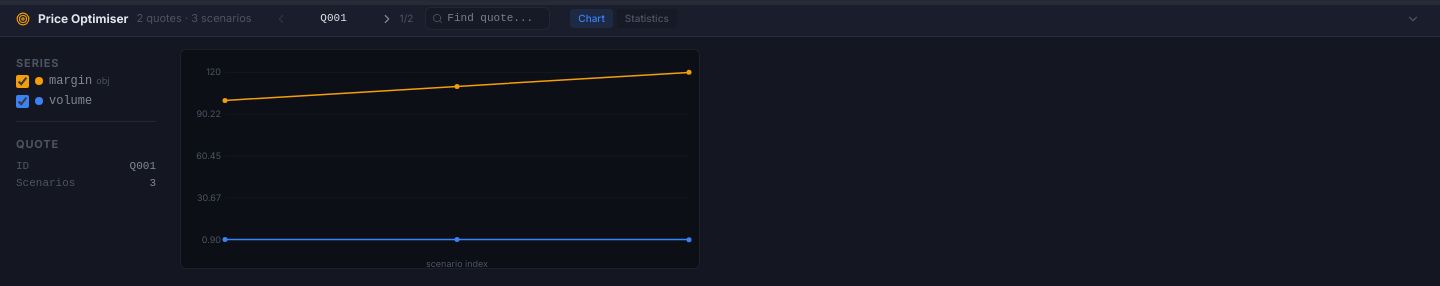
OptimiserDataPreview › Edge cases › shows empty message when all series unchecked
Note: Uncheck margin and volume (indices 0 and 1)
Click the 1st checkbox. click: (22, 81)
box: [16,74,29,88]
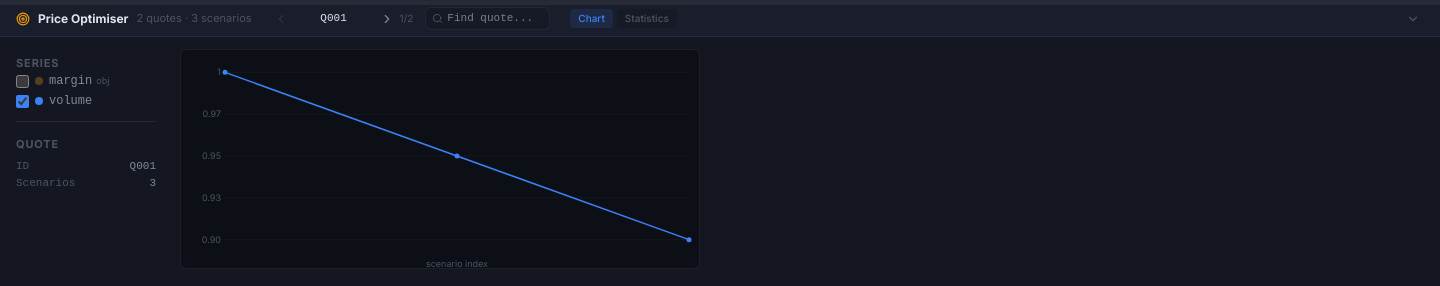
Click the checkbox labelled "volume". click: (22, 101)
box: [16,94,29,108]
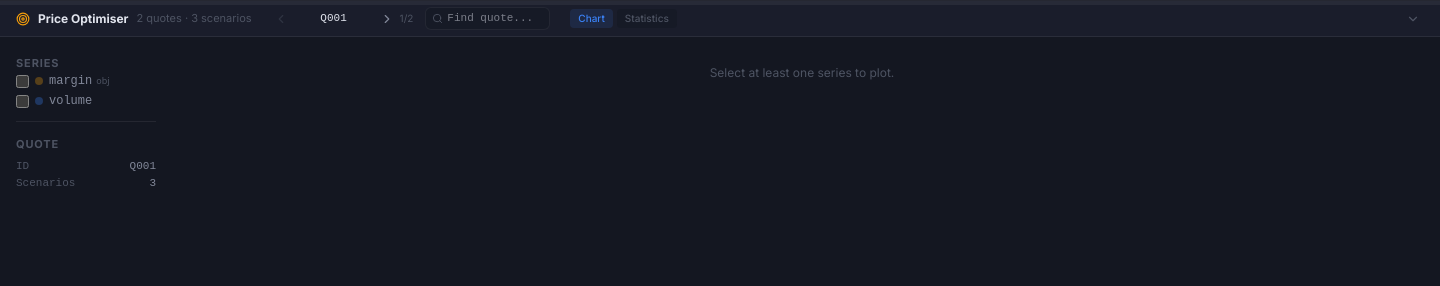
Expected: the text "Select at least one series to plot." is shown, [710,65,894,80]
